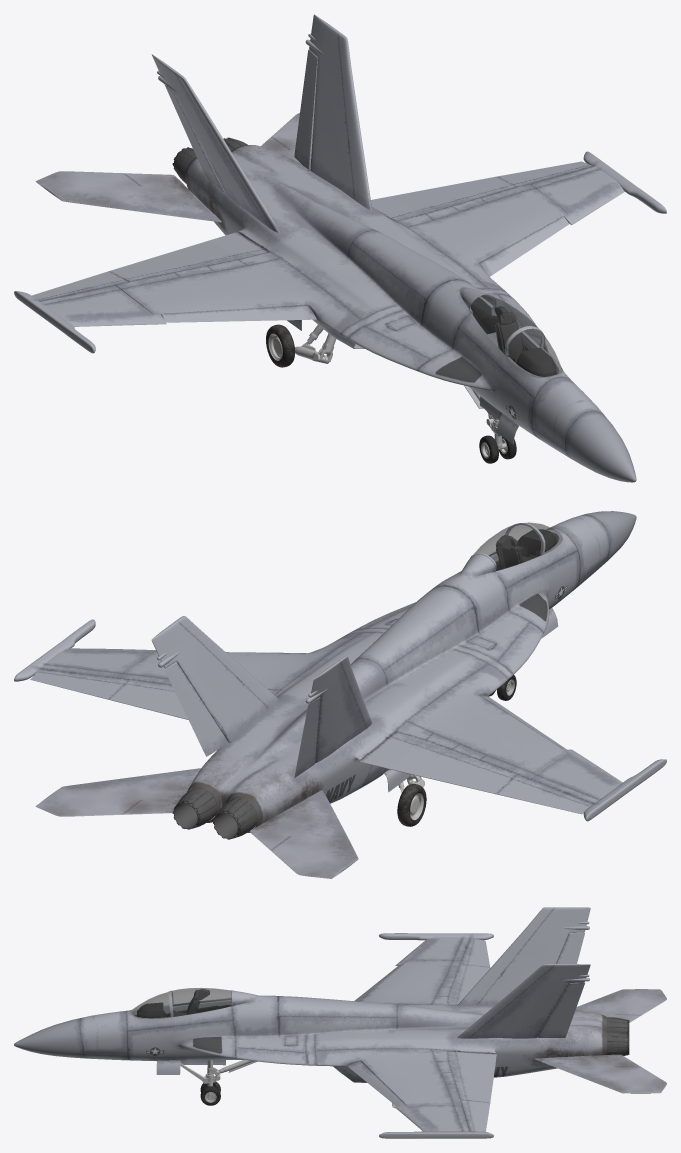
Rendered from fa18-hornet.glb.
The picture shows the model from 3 angles, top to bottom: view 1: azimuth 30°, elevation 25°; view 2: azimuth 150°, elevation 25°; view 3: azimuth 270°, elevation 25°; orthographic projection. The views are drawn at different scales.
Parts seen in each view (by area): view 1: fa18-hornet; view 2: fa18-hornet; view 3: fa18-hornet.
Part boxes in pixels (x1,y1,x2,y2): fa18-hornet: (14, 14, 666, 482); fa18-hornet: (14, 511, 666, 878); fa18-hornet: (14, 907, 666, 1138).
Size of the model in its own units: 1.52 by 0.5909 by 2.1.
6 materials, 6 textured.
